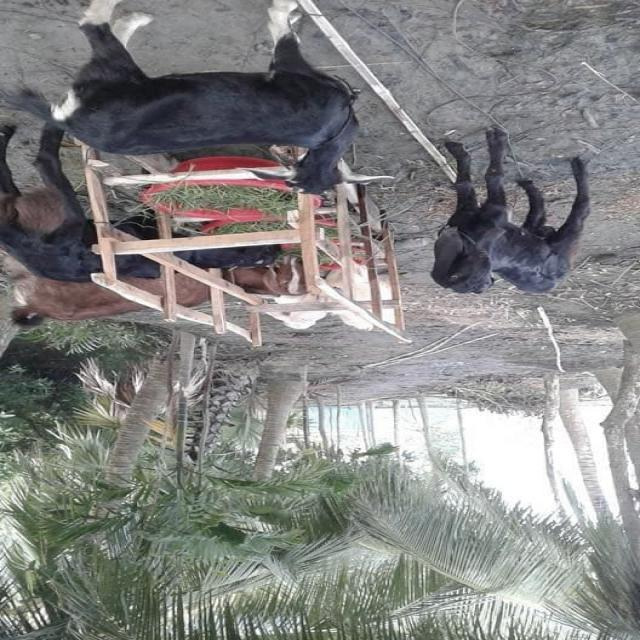Goat: (1, 1, 394, 197), (0, 121, 284, 285), (428, 128, 591, 297)
